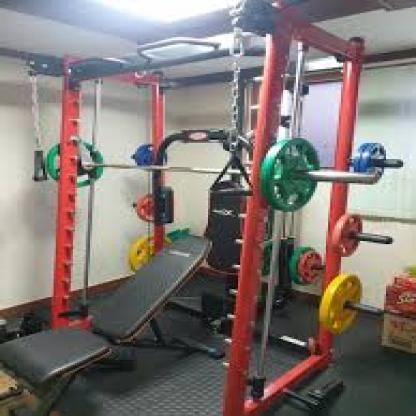smith machine: (27, 2, 404, 416)
